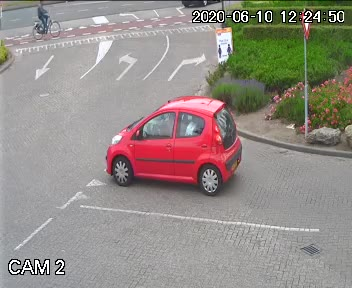car: (105, 94, 247, 202)
